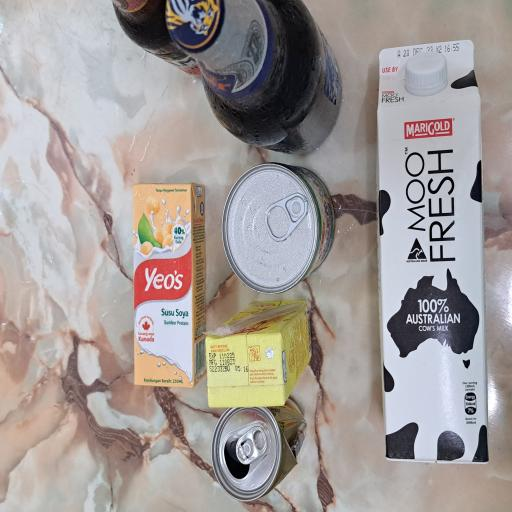can: (164, 293, 262, 447), (8, 283, 85, 403)
drink carton: (95, 176, 249, 273), (79, 272, 159, 416)
glass bottle: (267, 219, 384, 454)
pop tab: (203, 352, 241, 412), (35, 311, 65, 356)
